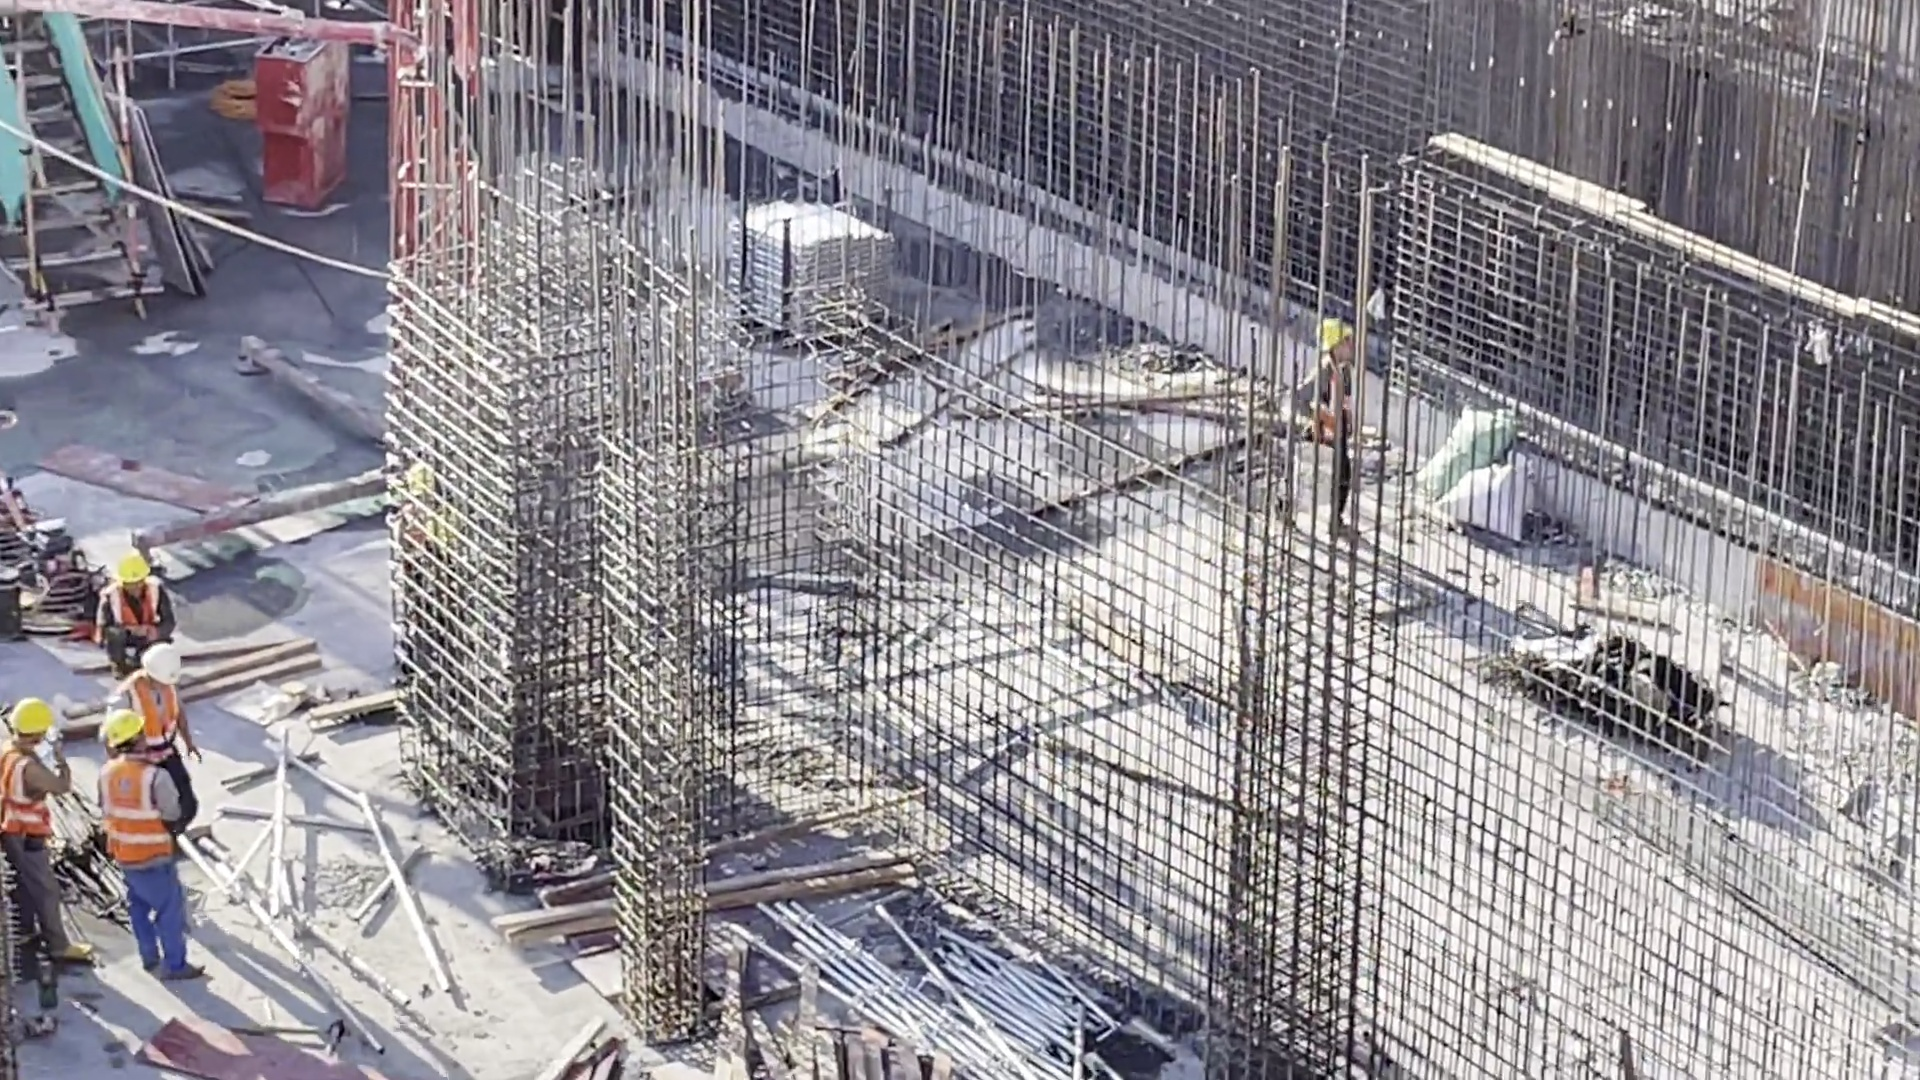helmet: (134, 642, 195, 695), (1, 697, 66, 737), (93, 706, 149, 742), (1306, 311, 1358, 349), (118, 550, 155, 585)
person: (95, 713, 226, 979), (1292, 306, 1377, 576), (1, 691, 73, 975), (111, 641, 212, 815), (82, 549, 181, 674)
scaffold: (809, 890, 1097, 1080), (729, 198, 920, 374)
vest: (99, 756, 178, 868), (114, 675, 193, 753), (1, 744, 54, 848), (95, 586, 188, 641), (1314, 376, 1366, 454)
